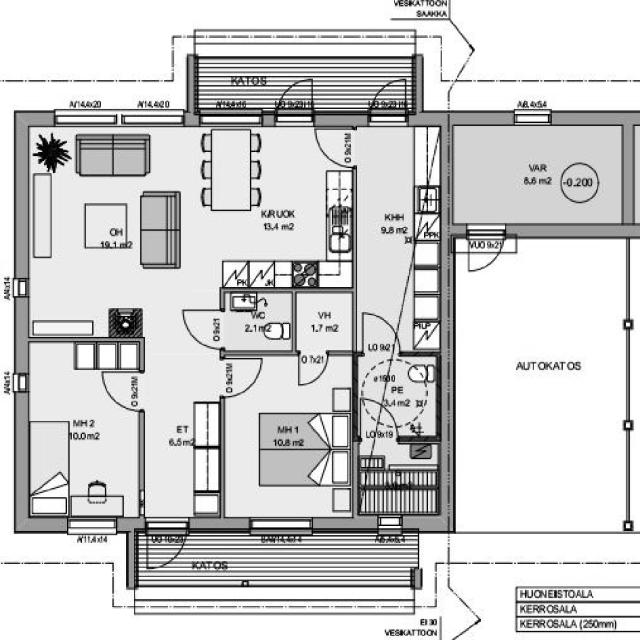door: (466, 224, 509, 280), (276, 72, 315, 132), (218, 357, 271, 398), (144, 524, 188, 572), (178, 306, 228, 348), (308, 127, 358, 167), (97, 365, 143, 408), (369, 79, 409, 122), (295, 348, 328, 385)
window: (238, 510, 322, 548), (48, 108, 191, 130), (201, 104, 269, 129), (60, 517, 122, 541), (510, 104, 566, 126), (374, 512, 409, 544), (8, 366, 36, 401)
zone: (24, 123, 352, 285), (24, 338, 143, 520), (226, 351, 350, 518), (352, 126, 438, 350), (448, 120, 624, 225), (358, 354, 435, 448), (352, 440, 440, 516), (222, 290, 293, 350), (293, 291, 355, 352)
